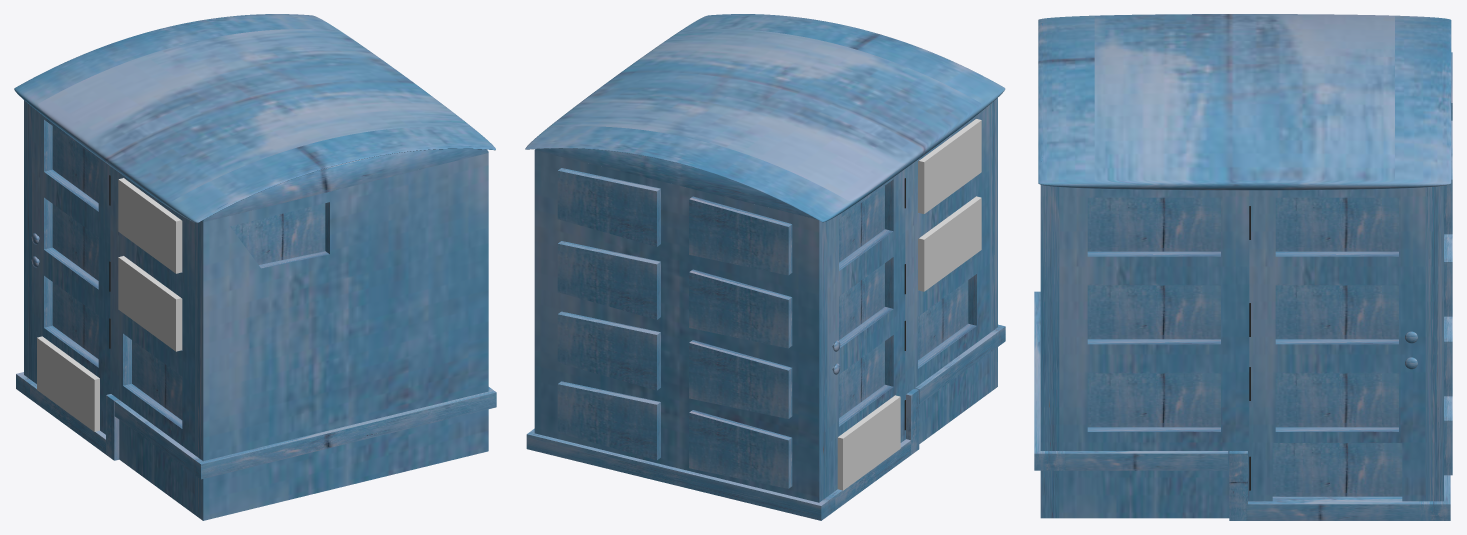
Rendered from coop.fbx.
The picture shows the model from 3 angles, left to right: view 1: azimuth 30°, elevation 25°; view 2: azimuth 150°, elevation 25°; view 3: azimuth 270°, elevation 25°; orthographic projection. The views are drawn at different scales.
Parts seen in each view (by area): view 1: wall, Cube.014, Cube.008, Cube.013, Cube.017, Cube.007, wall.011, Cube.009, Cube.011, Cube.010, wall.010, Cube.004 (+2 smaller); view 2: Cube.014, wall.010, Cube.008, Cube.013, Cube.017, wall.007, wall.003, wall.004, wall.005, wall.006, wall.008, wall.009 (+10 smaller); view 3: Cube.014, Cube.012, Cube.015, Cube.016, wall, wall.010, Cube.001, Cube.003, Cube.007, Cube.005, Cube, wall.005 (+3 smaller).
Part boxes in pixels (<box>): wall: <box>195,153,488,520</box>; Cube.014: <box>14,14,495,222</box>; Cube.008: <box>110,166,194,514</box>; Cube.013: <box>32,107,110,302</box>; Cube.017: <box>32,246,110,434</box>; Cube.007: <box>187,387,496,479</box>; wall.011: <box>202,146,488,221</box>; Cube.009: <box>118,178,182,273</box>; Cube.011: <box>118,256,182,351</box>; Cube.010: <box>37,336,99,431</box>; wall.010: <box>24,100,31,380</box>; Cube.004: <box>114,400,191,468</box>; Cube.014: <box>525,14,1005,222</box>; wall.010: <box>534,150,827,502</box>; Cube.008: <box>905,105,989,443</box>; Cube.013: <box>827,169,905,362</box>; Cube.017: <box>827,306,905,496</box>; wall.007: <box>557,381,660,460</box>; wall.003: <box>689,410,792,488</box>; wall.004: <box>689,340,792,418</box>; wall.005: <box>557,241,660,319</box>; wall.006: <box>557,168,660,246</box>; wall.008: <box>557,311,660,390</box>; wall.009: <box>689,269,792,348</box>; Cube.014: <box>1038,14,1451,190</box>; Cube.012: <box>1059,187,1249,518</box>; Cube.015: <box>1249,187,1425,349</box>; Cube.016: <box>1249,350,1425,501</box>; wall: <box>1040,185,1059,518</box>; wall.010: <box>1425,185,1443,501</box>; Cube.001: <box>1246,496,1418,520</box>; Cube.003: <box>1065,451,1228,470</box>; Cube.007: <box>1034,291,1065,470</box>; Cube.005: <box>1229,451,1247,520</box>; Cube: <box>1419,475,1450,520</box>; wall.005: <box>1444,234,1452,316</box>.
Bounding box in the file's own units: 432 × 440 × 451.
